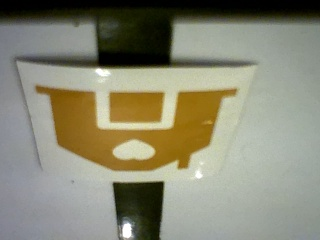Rescue_Station: (35, 84, 237, 171)
